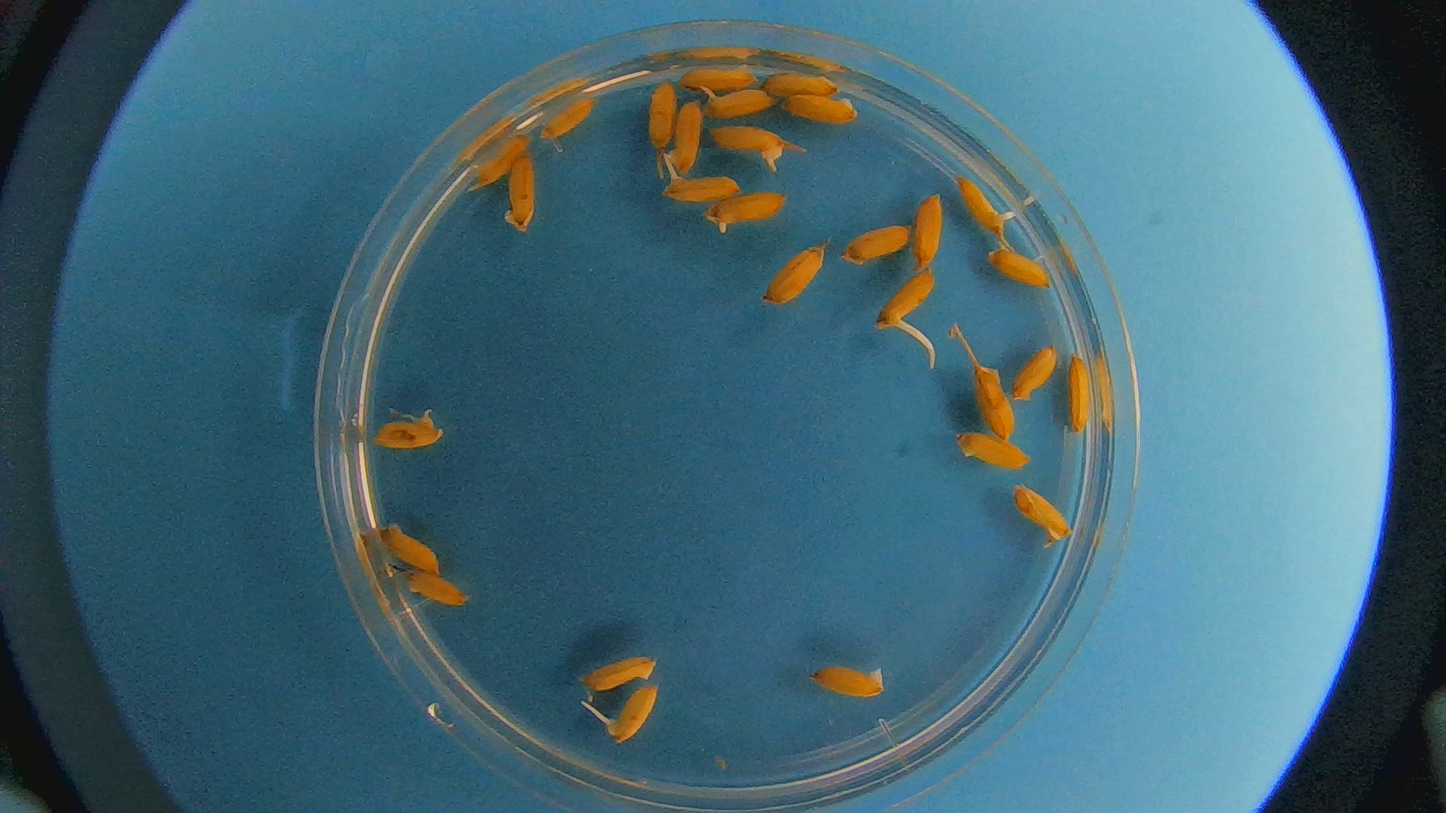no: (764, 239, 829, 308), (1008, 483, 1074, 550), (373, 521, 446, 575), (700, 189, 787, 234), (567, 651, 660, 693), (839, 224, 914, 271), (969, 362, 1016, 437), (471, 131, 529, 191), (984, 237, 1052, 287), (951, 431, 1033, 472), (374, 407, 443, 452), (1009, 346, 1063, 403), (502, 155, 539, 236), (811, 662, 886, 701), (401, 568, 468, 610), (664, 97, 700, 175), (910, 194, 946, 271), (1062, 355, 1098, 430), (538, 99, 596, 145), (764, 69, 841, 103), (783, 93, 860, 127), (642, 78, 677, 148), (681, 66, 760, 90)
yes: (875, 266, 938, 330), (950, 178, 1006, 242), (603, 683, 661, 743), (706, 123, 784, 163), (663, 166, 743, 204), (701, 81, 776, 120)
